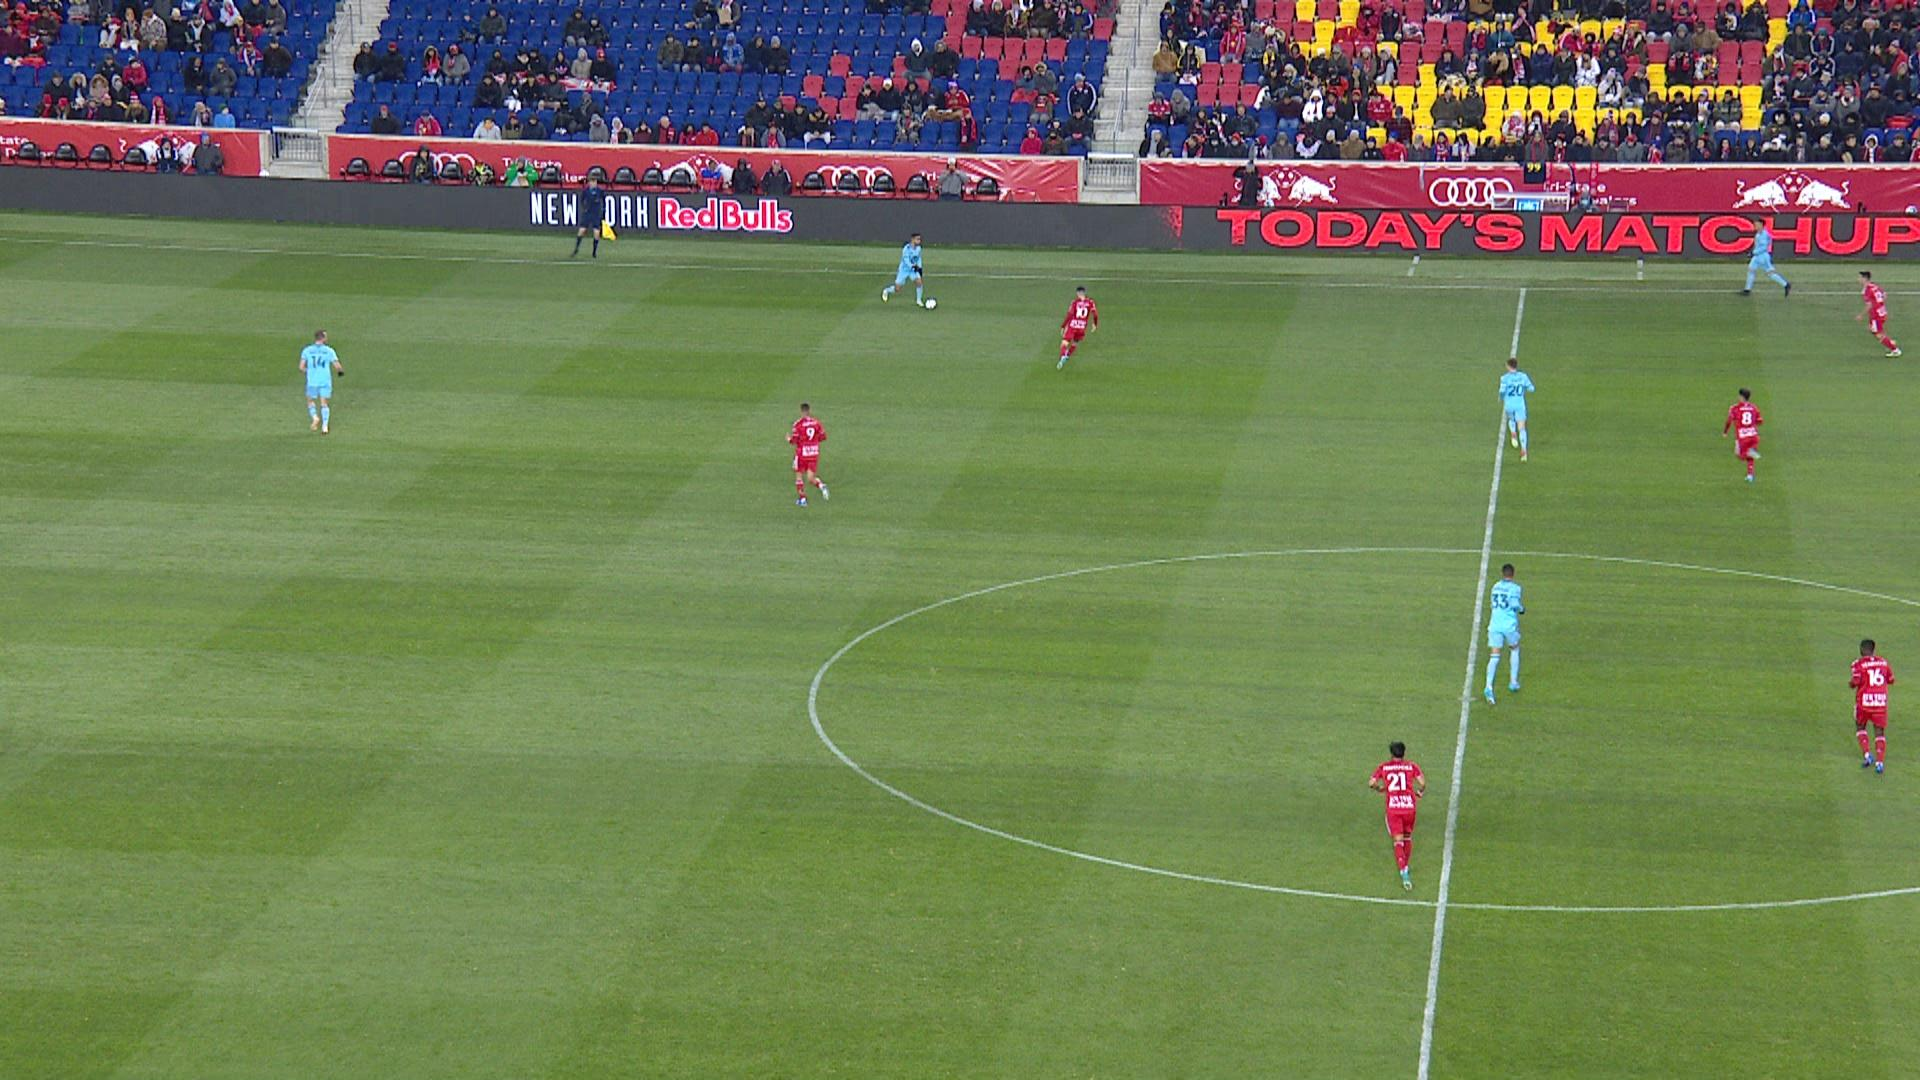football: (924, 298, 938, 310)
